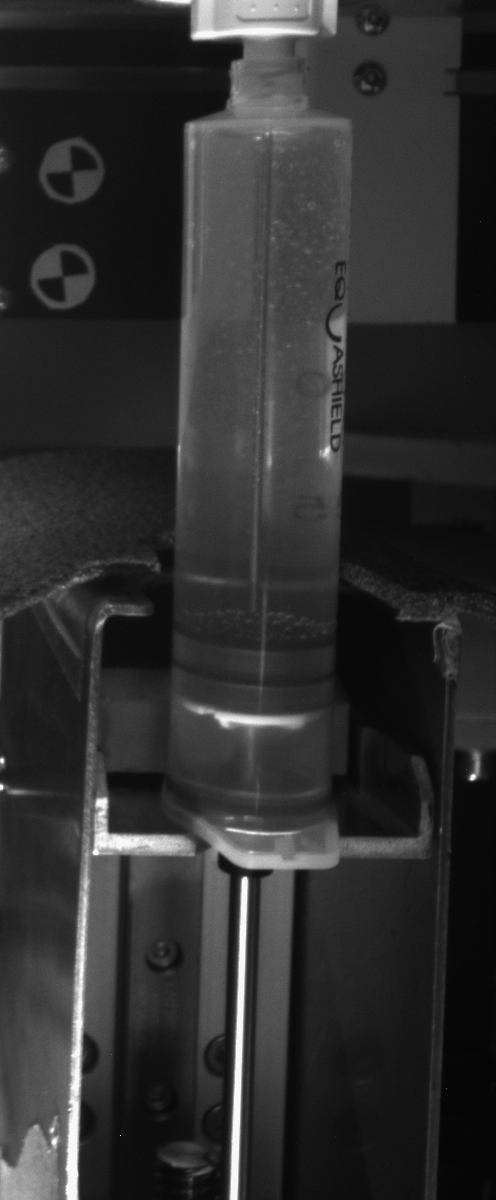piston: (169, 630, 343, 733)
